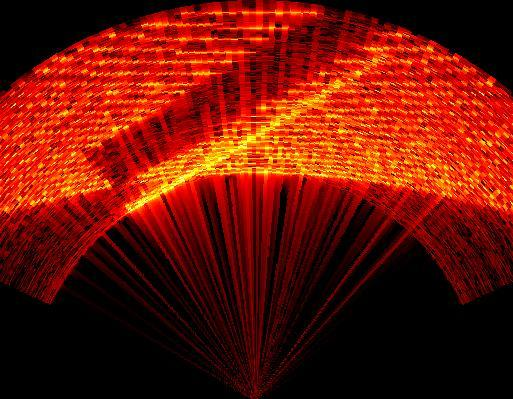pipe: (80, 9, 395, 190)
